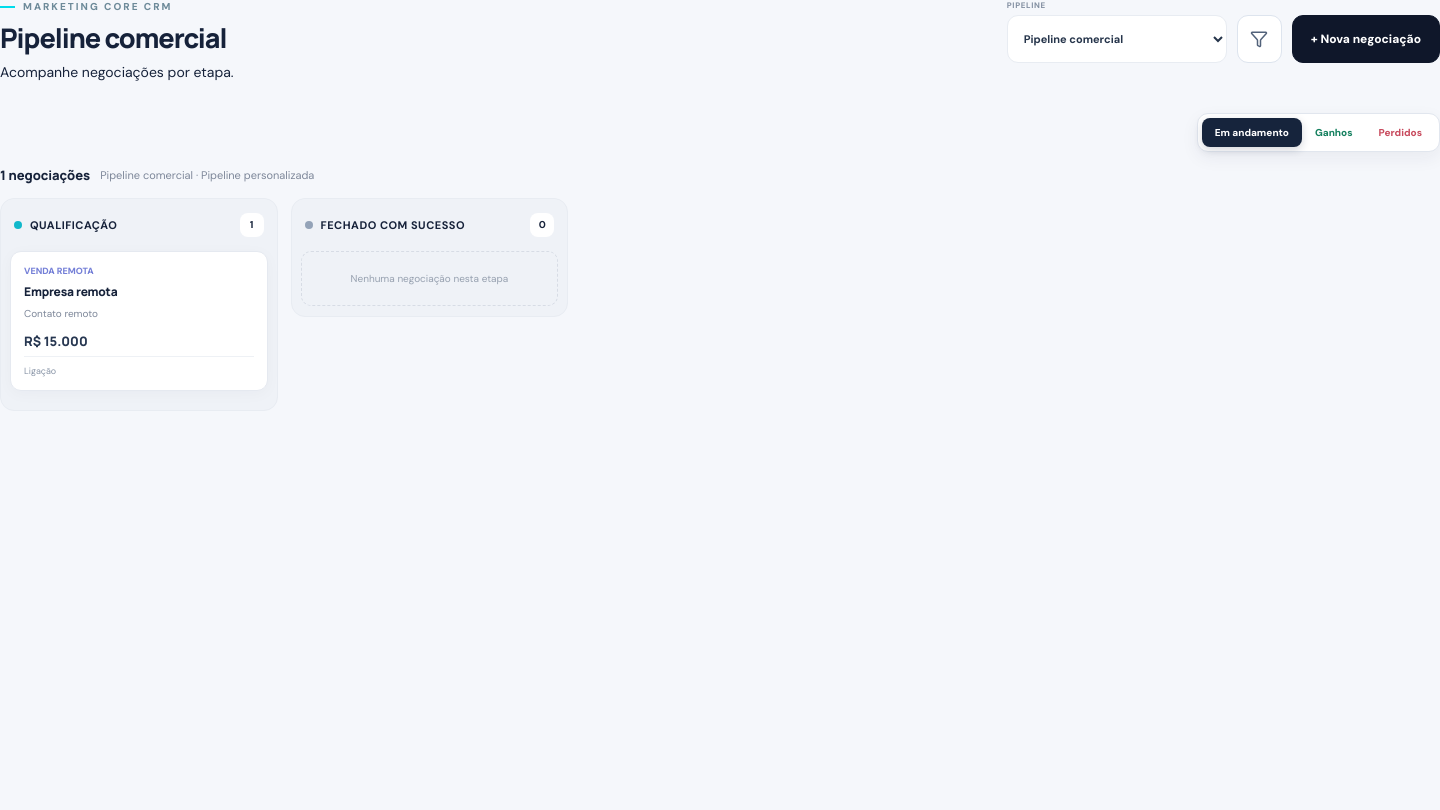
Test: persistência remota das negociações na Pipeline › persiste perda sem etapa sintética, incluindo motivo e observação nas notas remotas
Click the button with test id "deal-card-deal-1": click(139, 321) [10,251,268,391]
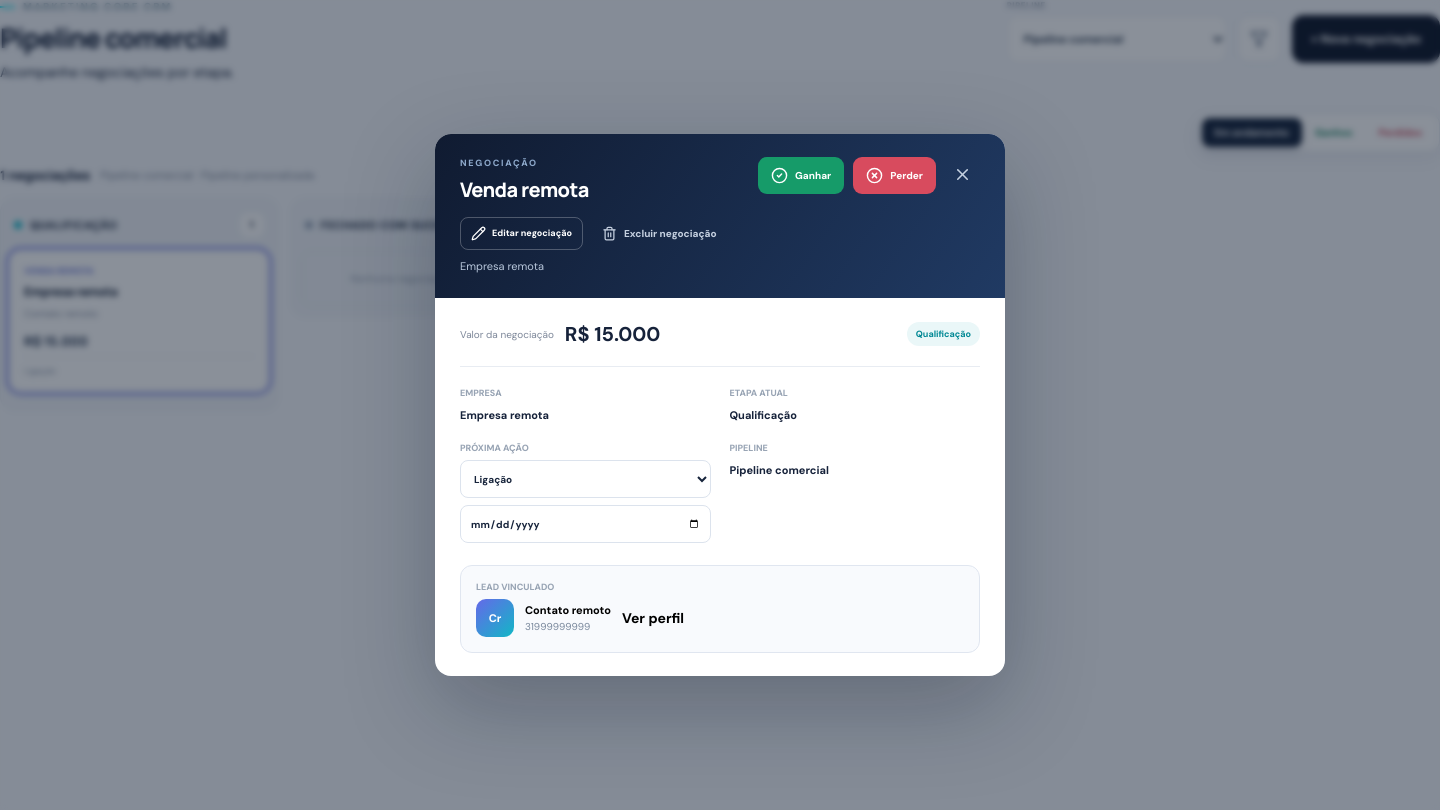
Click the button with aria-label "Marcar como perdida": click(895, 176) [853,157,936,194]
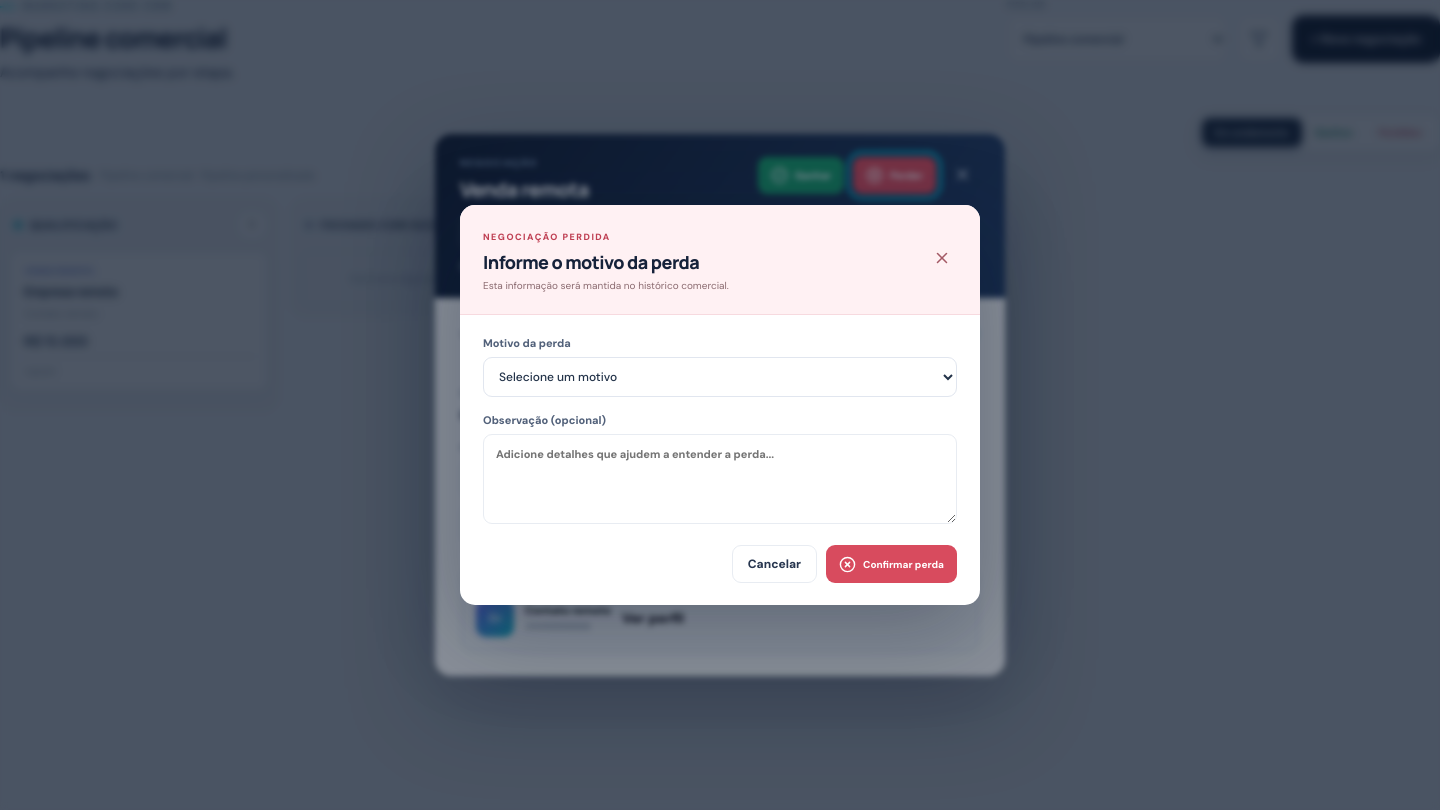
Select "Preço/orçamento" in the dropdown labelled "Motivo da perda": (720, 377) [483,357,957,397]
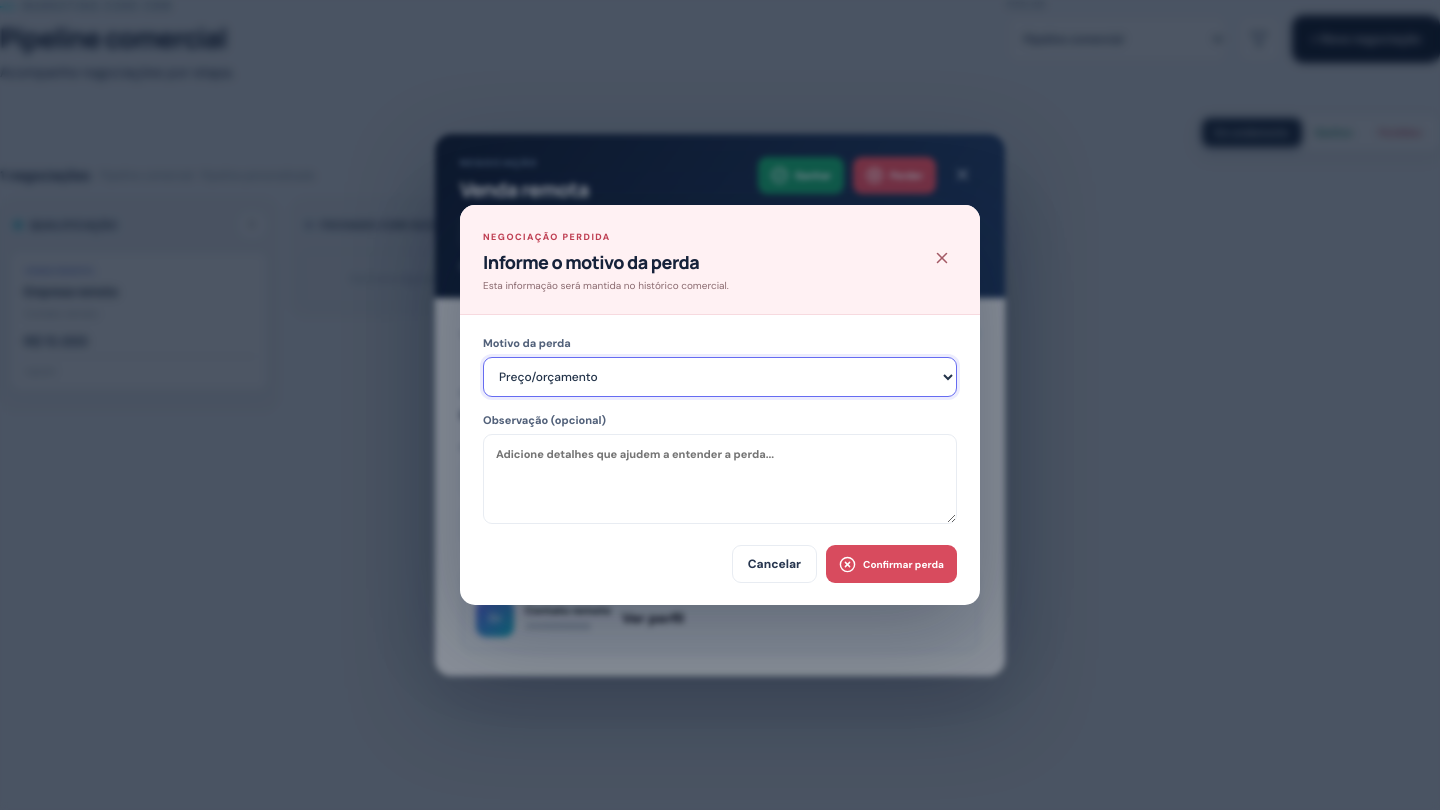
In the text box named "Observação da perda": (720, 479) [483,434,957,524], type "Cliente adiou o projeto."
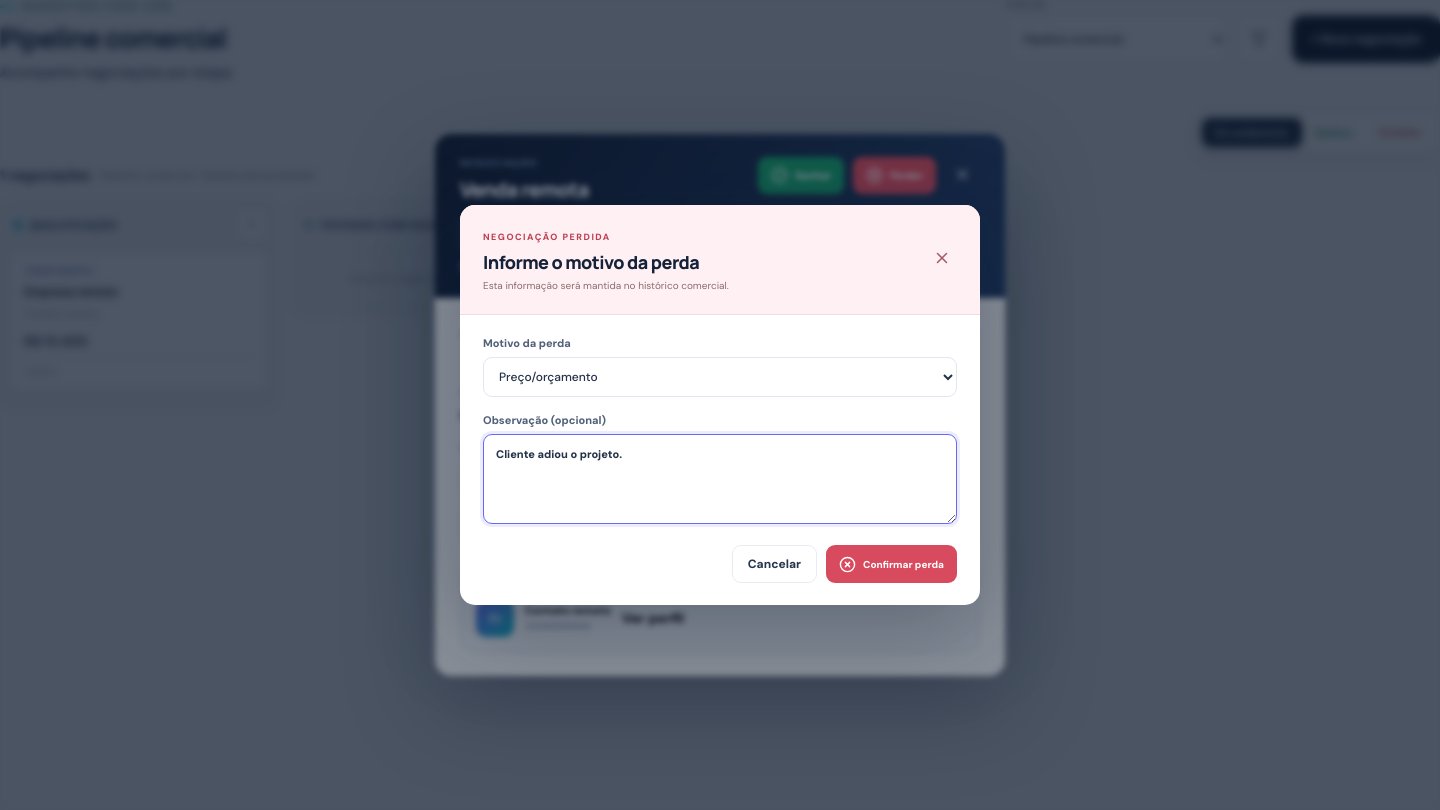
Click the button "Confirmar perda": click(892, 564) [826,545,957,583]
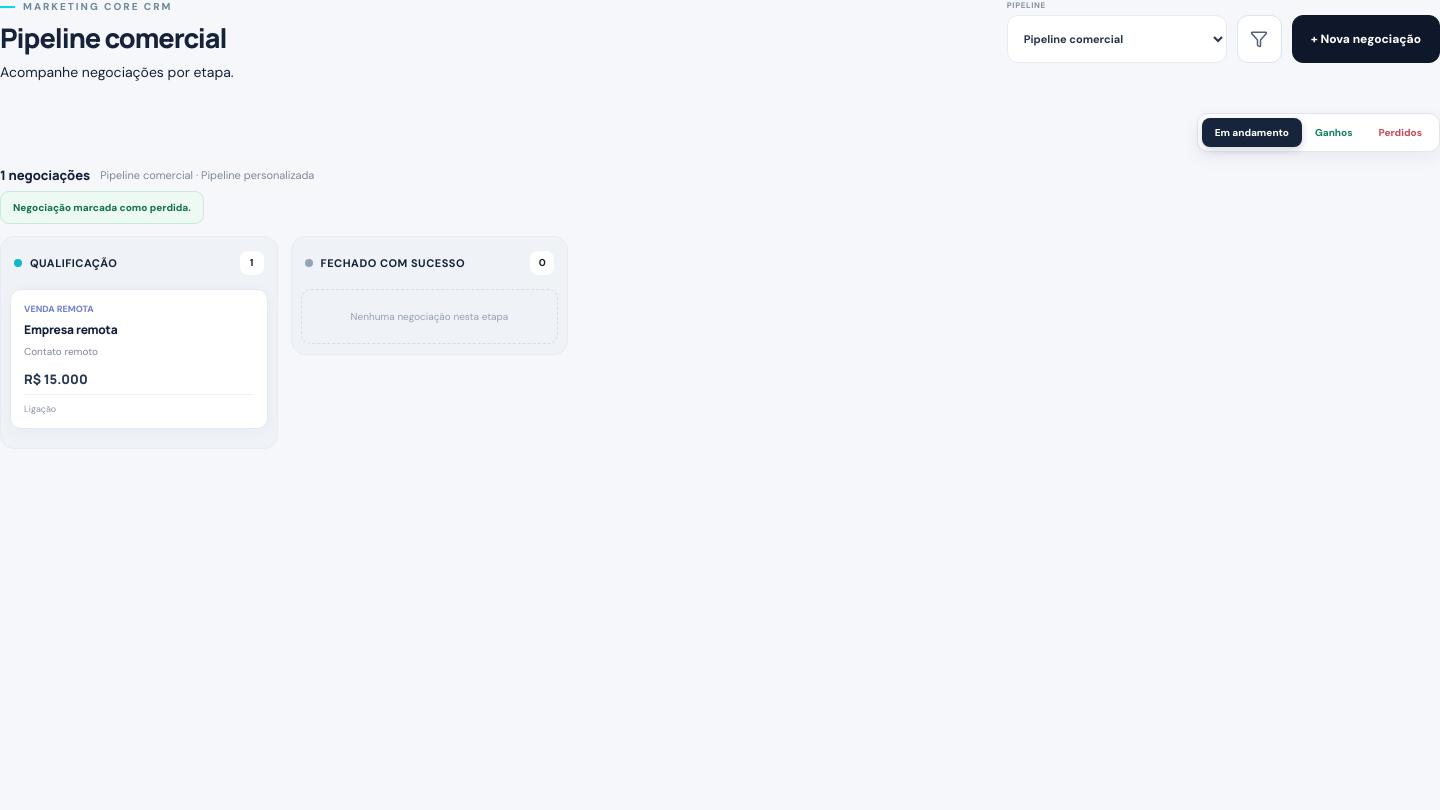
Now the message shows "Negociação marcada como perdida", box [13,201,191,214]
